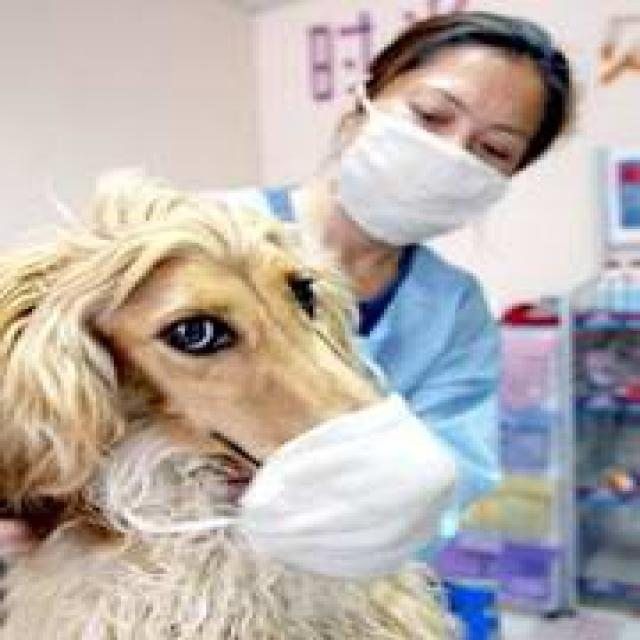mask: (359, 40, 537, 241)
